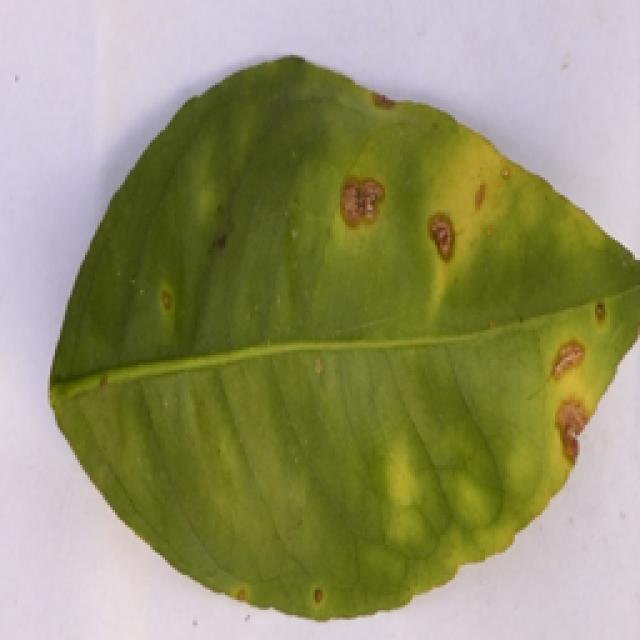canker: (78, 83, 640, 607)
